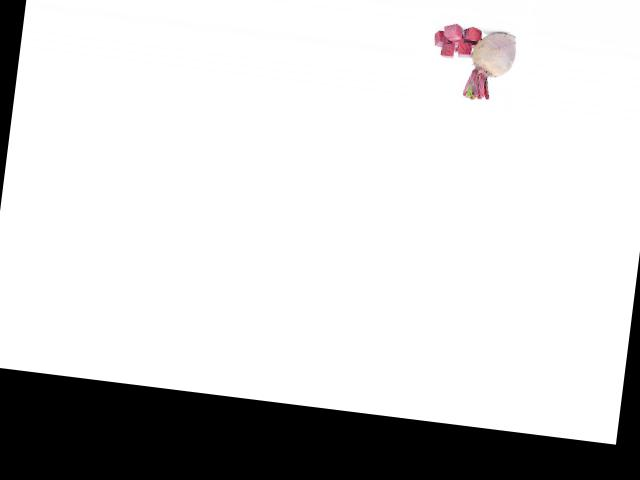beet: (461, 28, 517, 103)
